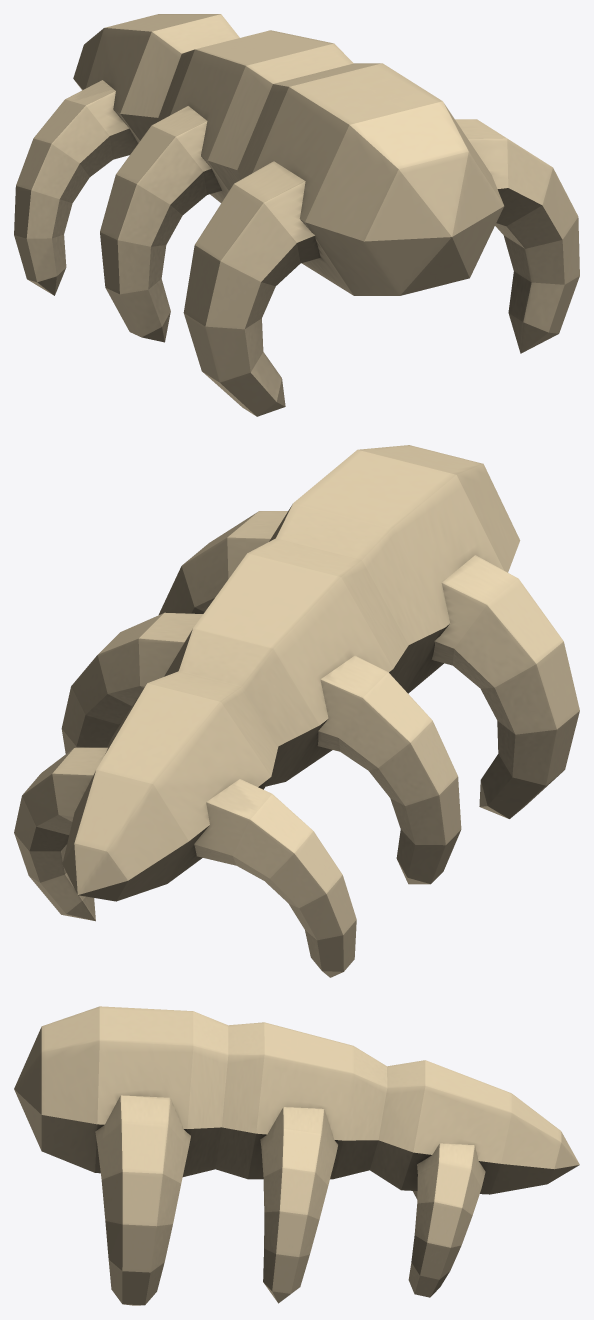
Rendered from Squelette_Queue.FBX.
3 renders of one model, top to bottom at view 1: azimuth 30°, elevation 25°; view 2: azimuth 150°, elevation 25°; view 3: azimuth 270°, elevation 25°, orthographic. The views are drawn at different scales.
Visible parts, largest first — view 1: SnakeSquelette_Queue; view 2: SnakeSquelette_Queue; view 3: SnakeSquelette_Queue.
Part boxes in pixels (left/top/right/bottom): SnakeSquelette_Queue: left=14, top=14, right=579, bottom=416; SnakeSquelette_Queue: left=14, top=445, right=579, bottom=977; SnakeSquelette_Queue: left=14, top=1006, right=579, bottom=1305.
Bounding box in the file's own units: 0.6034 × 0.4642 × 1.02.
